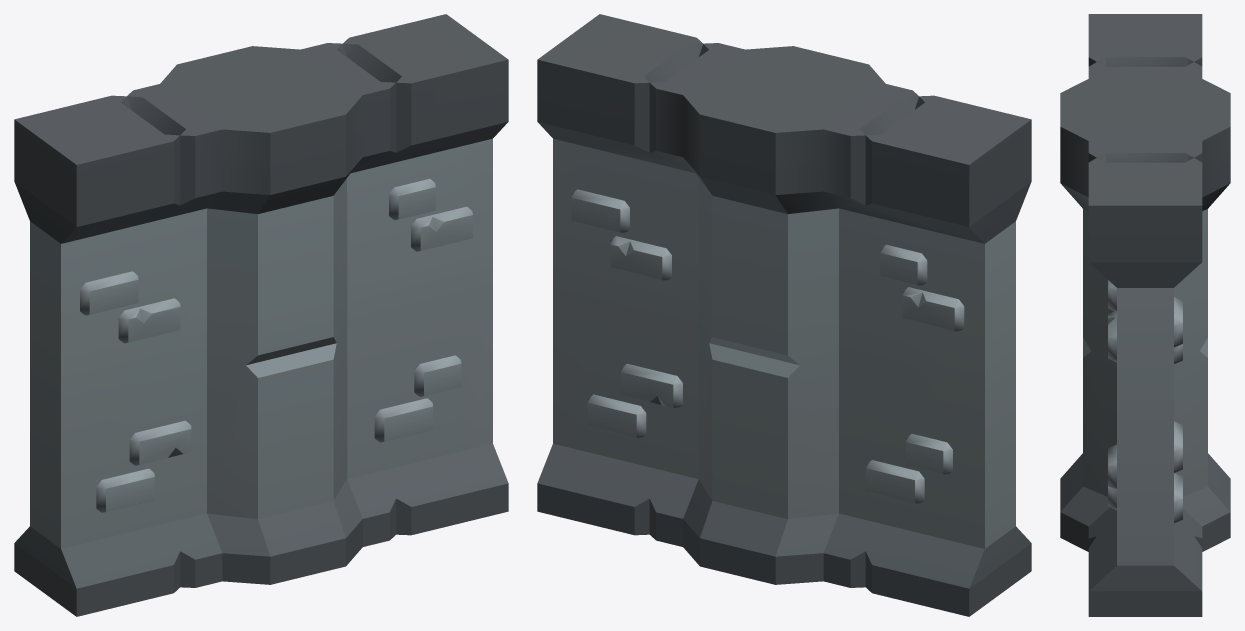
The model's file is wall_pillar.glb.
The picture shows the model from 3 angles, left to right: view 1: azimuth 30°, elevation 25°; view 2: azimuth 150°, elevation 25°; view 3: azimuth 270°, elevation 25°; orthographic projection. The views are drawn at different scales.
Parts seen in each view (by area): view 1: wall_pillar; view 2: wall_pillar; view 3: wall_pillar.
Boxes of the visible parts, x1,y1,x2,y2 form: wall_pillar: (14,14,508,616); wall_pillar: (537,14,1031,616); wall_pillar: (1060,14,1230,616).
Bounding box in the file's own units: 4 × 4 × 1.5.
1 material, 1 textured.
